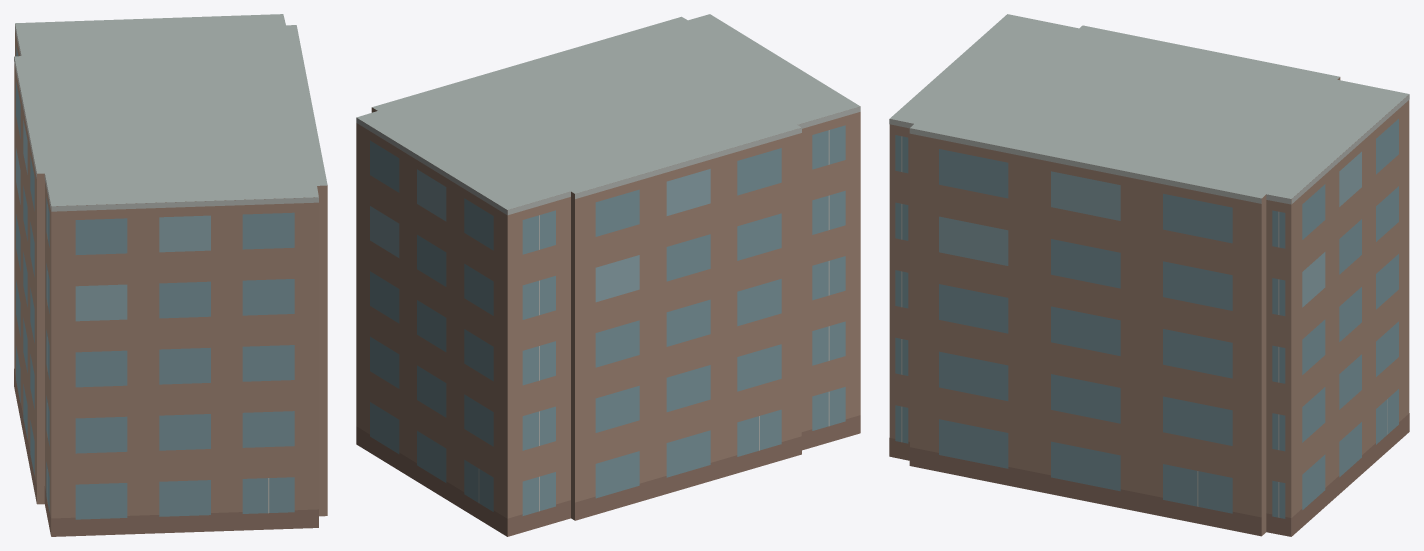
Rendered from survey-upis-32632095.glb.
3 renders of one model, left to right at view 1: azimuth 30°, elevation 25°; view 2: azimuth 150°, elevation 25°; view 3: azimuth 270°, elevation 25°, orthographic. The views are drawn at different scales.
Visible parts, largest first — view 1: survey-upis-32632095.tmp; view 2: survey-upis-32632095.tmp; view 3: survey-upis-32632095.tmp.
Boxes of the visible parts, left/top/right/bottom form: survey-upis-32632095.tmp: left=14, top=14, right=327, bottom=536; survey-upis-32632095.tmp: left=356, top=14, right=860, bottom=536; survey-upis-32632095.tmp: left=889, top=14, right=1409, bottom=536.
Bounding box in the file's own units: 17.63 × 15 × 20.93.
